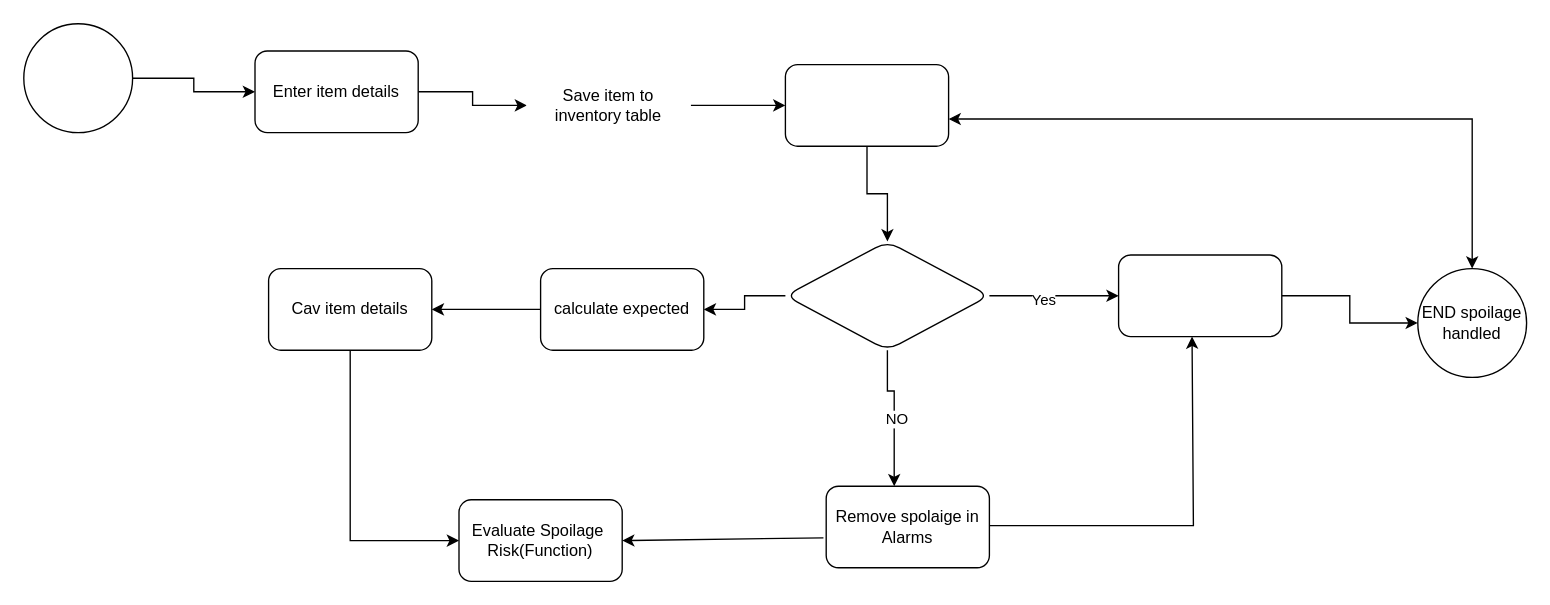
This 1550x605 diagram has some shape labels left out. Each missing label, with the centre of its shape:
"Calculate Expected Spoilage Date" belongs at point (866, 104).
"Insert into Alert" belongs at point (1199, 295).
"Is Shelf-Life Below Threshold?" belongs at point (886, 295).
"new inventory item added" belongs at point (77, 77).
